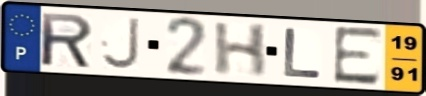2: (163, 14, 209, 79)
E: (331, 24, 385, 87)
H: (212, 21, 271, 79)
J: (99, 15, 142, 72)
L: (282, 26, 325, 80)
R: (38, 11, 95, 70)
